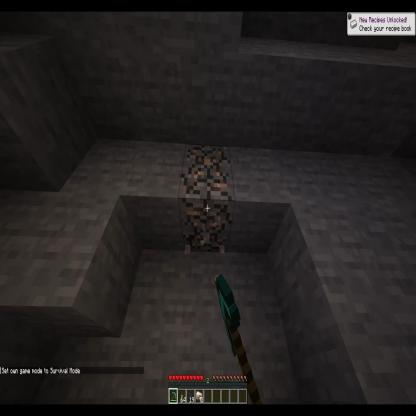iron ore: (179, 142, 235, 253)
